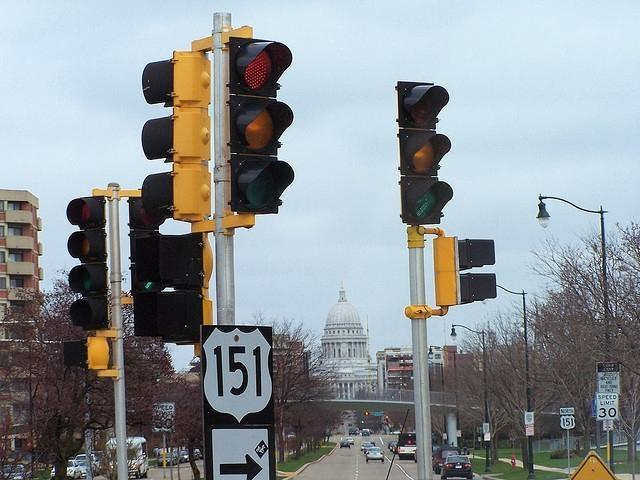bus: (398, 432, 417, 460)
car: (440, 454, 473, 480), (432, 446, 462, 474), (72, 454, 101, 478), (365, 447, 384, 463), (66, 460, 80, 480), (360, 441, 374, 451), (338, 440, 351, 448), (362, 428, 371, 436), (346, 437, 354, 445)
truck: (104, 436, 150, 480)
